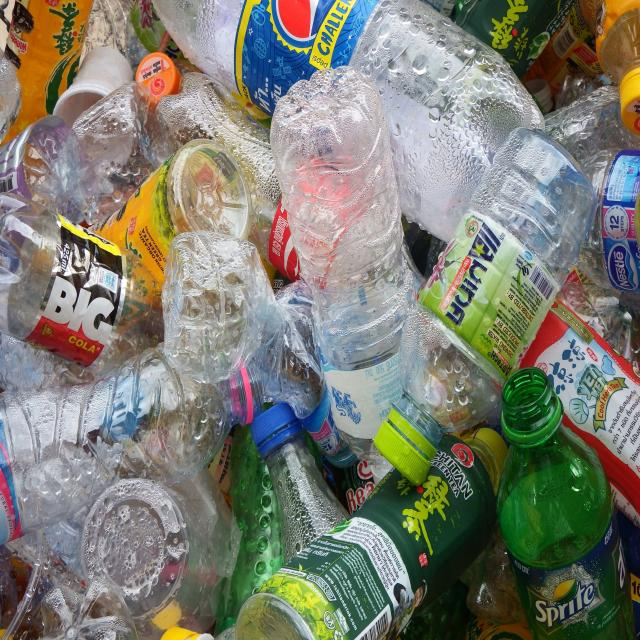plastic: (116, 97, 512, 580)
